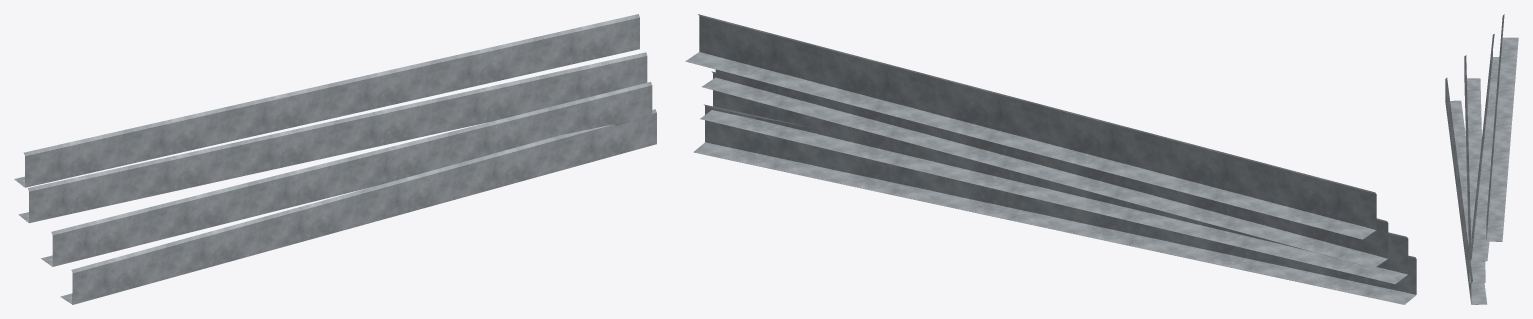
Rendered from COB-CAL-003_anim.glb.
3 renders of one model, left to right at view 1: azimuth 30°, elevation 25°; view 2: azimuth 150°, elevation 25°; view 3: azimuth 270°, elevation 25°, orthographic. The views are drawn at different scales.
Parts seen in each view (by area): view 1: COB-CAL-003_anim3, COB-CAL-003_anim2, COB-CAL-003_anim1, COB-CAL-003_anim0; view 2: COB-CAL-003_anim3, COB-CAL-003_anim0, COB-CAL-003_anim2, COB-CAL-003_anim1; view 3: COB-CAL-003_anim3, COB-CAL-003_anim2, COB-CAL-003_anim1, COB-CAL-003_anim0.
Boxes of the visible parts, x1,y1,x2,y2 form: COB-CAL-003_anim3: (14,14,639,187); COB-CAL-003_anim2: (18,52,647,222); COB-CAL-003_anim1: (41,82,652,266); COB-CAL-003_anim0: (60,109,656,304); COB-CAL-003_anim3: (685,14,1376,239); COB-CAL-003_anim0: (693,104,1416,304); COB-CAL-003_anim2: (702,69,1388,268); COB-CAL-003_anim1: (700,71,1408,284); COB-CAL-003_anim3: (1486,14,1518,241); COB-CAL-003_anim2: (1471,34,1499,261); COB-CAL-003_anim1: (1464,55,1485,282); COB-CAL-003_anim0: (1445,77,1487,304).
Bounding box in the file's own units: 3.04 × 0.5821 × 0.4564.
1 material, 1 textured.
